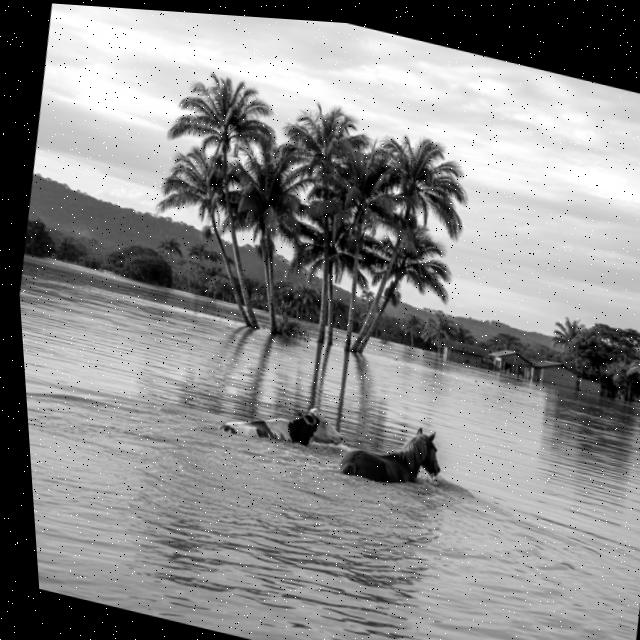cow: (200, 377, 352, 474)
horse: (326, 398, 459, 502)
